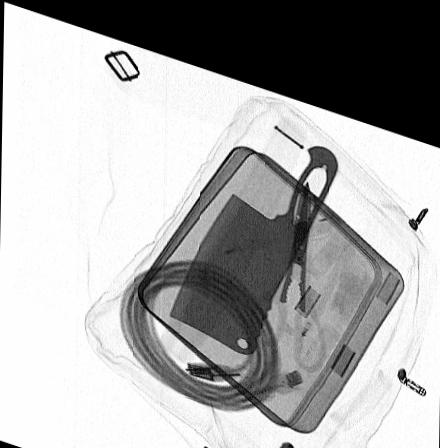Knife: (168, 124, 337, 340)
Scissors: (252, 163, 324, 353)
